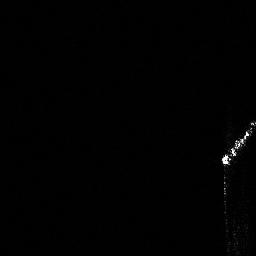ship: (219, 115, 256, 171)
